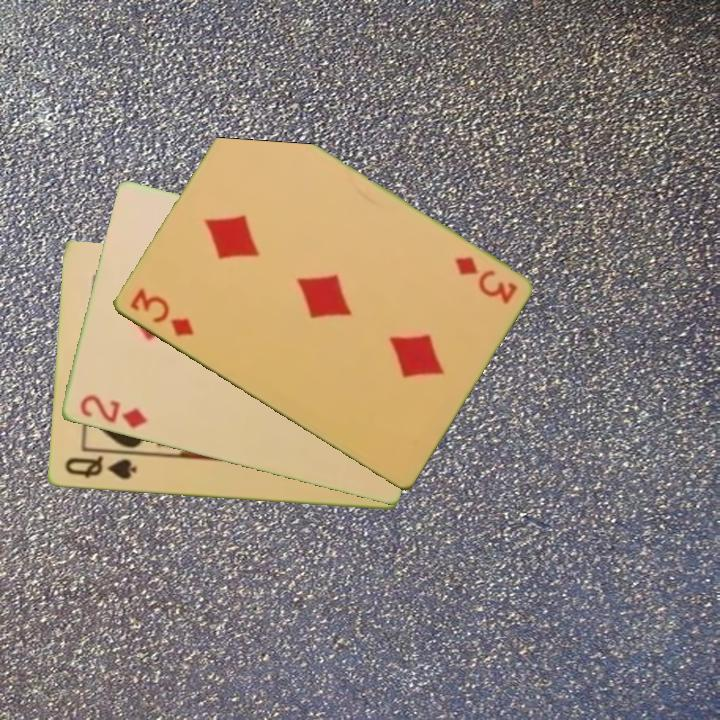2d: (76, 391, 150, 432)
3d: (126, 284, 196, 340), (450, 253, 520, 308)
Qs: (61, 453, 139, 483)
